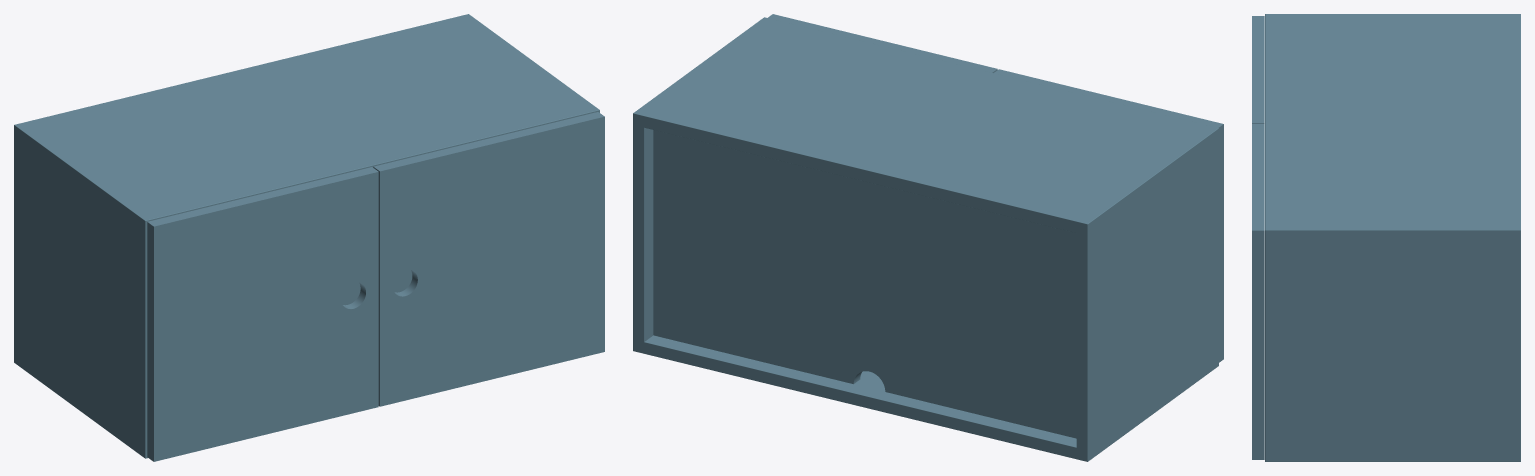
File: MOD-2X1-D-B-AP-AC.glb
3 views of the same model, side by side, from view 1: azimuth 30°, elevation 25°; view 2: azimuth 150°, elevation 25°; view 3: azimuth 270°, elevation 25° (orthographic). The views are drawn at different scales.
Bounding box in the file's own units: 720 × 360 × 378.
